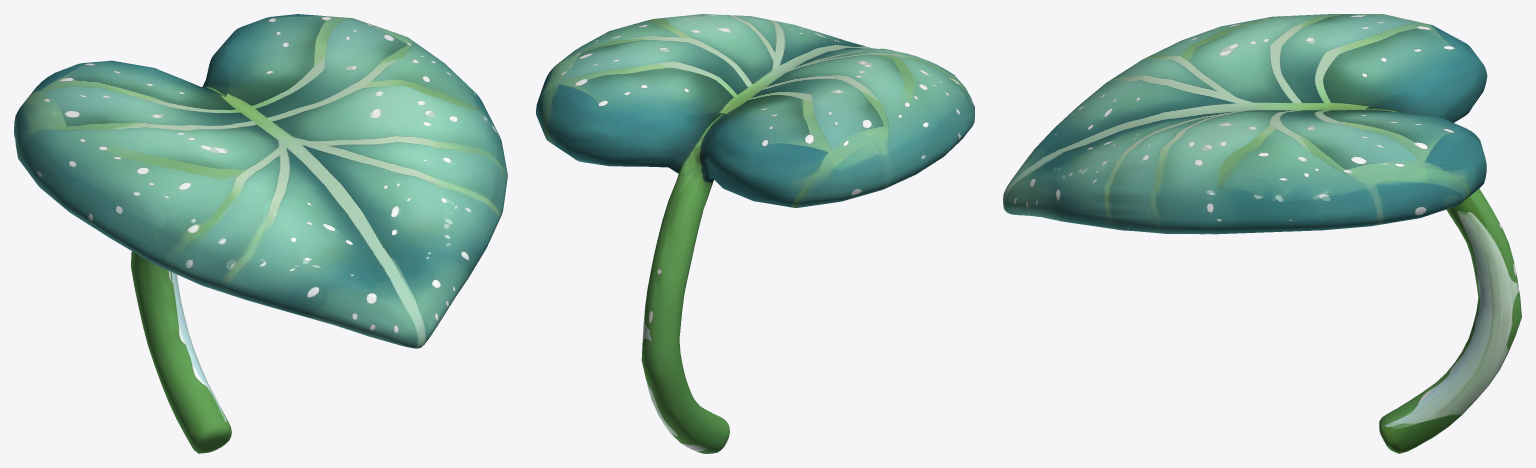
The model's file is pothos_mint_dot_34.glb.
3 views of the same model, side by side, from view 1: azimuth 30°, elevation 25°; view 2: azimuth 150°, elevation 25°; view 3: azimuth 270°, elevation 25° (orthographic). The views are drawn at different scales.
Size of the model in its own units: 1.71 by 1.57 by 2.
1 material, 1 textured.
